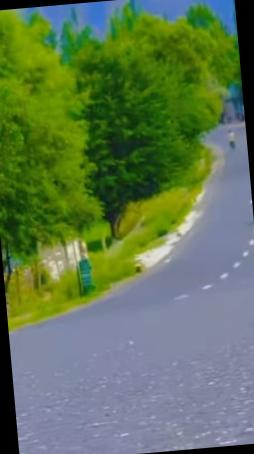sharp_turn: (195, 135, 254, 344)
